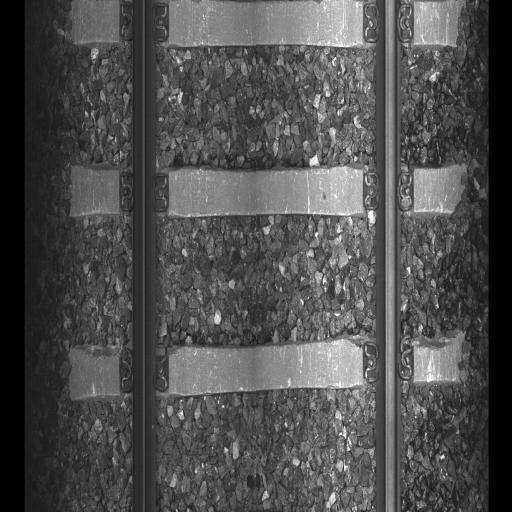sleeper: (71, 164, 469, 213), (70, 2, 470, 46), (68, 346, 469, 389)
